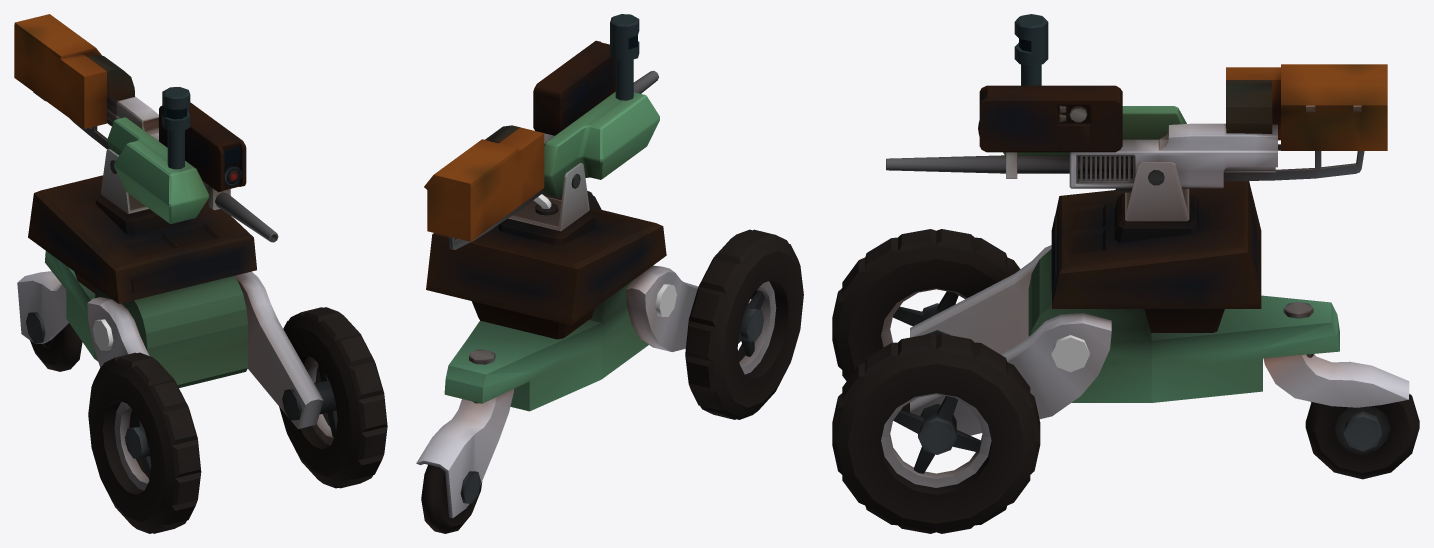
File: wheeled_turret.FBX
3 renders of one model, left to right at view 1: azimuth 30°, elevation 25°; view 2: azimuth 150°, elevation 25°; view 3: azimuth 270°, elevation 25°, orthographic. The views are drawn at different scales.
Parts seen in each view (by area): view 1: base, Tube04, Tube01, Box03, gun, ammo box, Box01, camera armor, Box02, Box04, motion sensor, Tube03 (+6 smaller); view 2: base, Tube04, Box03, ammo box, gun, Box02, camera armor, Box04, gun pivot, motion sensor, Tube03, Cylinder14 (+2 smaller); view 3: Tube01, base, Box03, gun, ammo box, Tube04, camera armor, Box01, Box02, Box04, Tube03, gun pivot (+5 smaller).
Boxes of the visible parts, x1,y1,x2,y2 form: base: (28,175,256,303); Tube04: (88,352,201,533); Tube01: (279,307,387,488); Box03: (45,251,247,387); gun: (33,92,278,242); ammo box: (14,14,134,128); Box01: (234,271,323,428); camera armor: (159,102,246,192); Box02: (17,271,68,343); Box04: (87,297,149,367); motion sensor: (162,87,190,169); Tube03: (30,323,82,371); base: (426,196,666,339); Tube04: (685,229,803,419); Box03: (444,265,653,411); ammo box: (424,125,544,241); gun: (448,70,659,249); Box02: (416,389,514,518); camera armor: (533,40,615,135); Box04: (626,265,698,351); gun pivot: (508,163,589,231); motion sensor: (610,14,639,100); Tube03: (421,465,482,533); Cylinder14: (738,290,764,356); Tube01: (832,334,1040,533); base: (1051,181,1261,332); Box03: (1028,249,1339,402); gun: (886,106,1364,192); ammo box: (1226,64,1387,150); Tube04: (832,229,1020,412); camera armor: (979,85,1122,152); Box01: (910,312,1111,435); Box02: (1263,354,1409,407); Box04: (910,245,1051,354); Tube03: (1305,394,1419,479); gun pivot: (1125,162,1189,221).
Bounding box in the file's own units: 0.4312 × 0.7169 × 0.8575.
